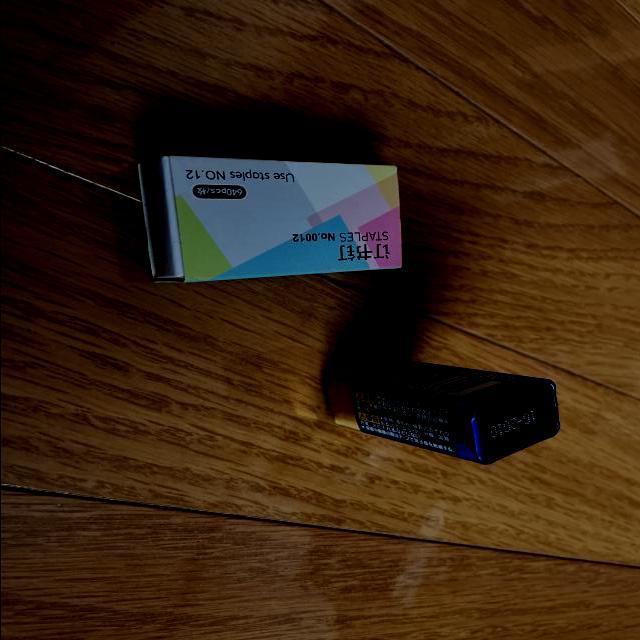9V: (323, 357, 559, 465)
